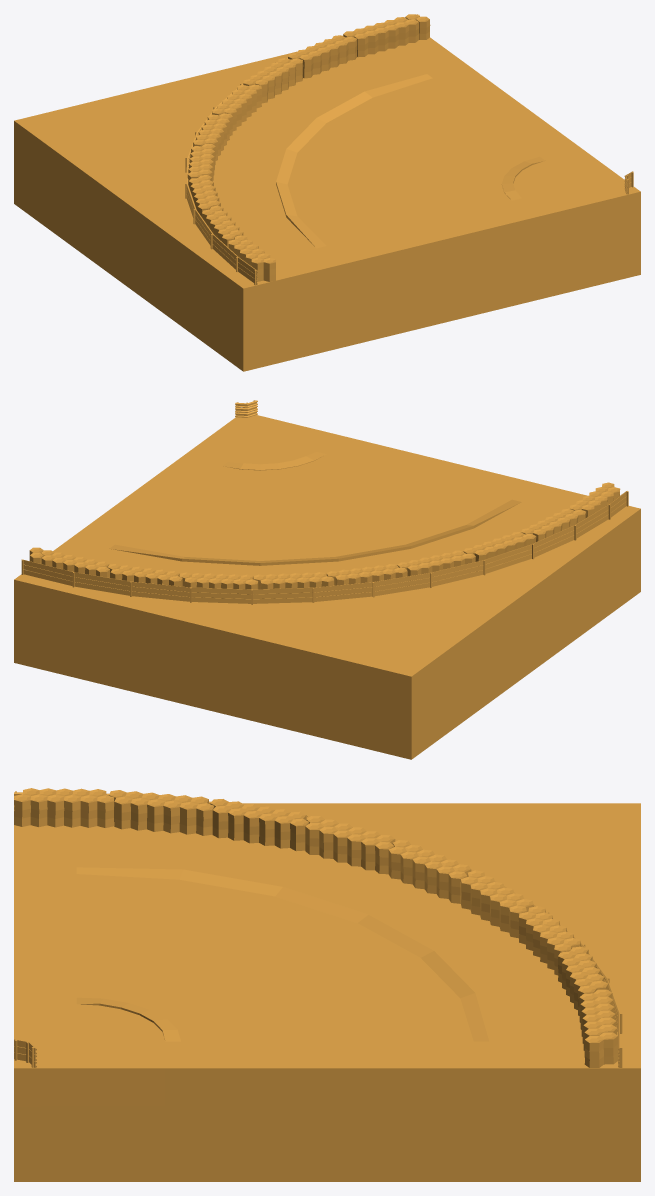
Rendered from tile-race-track-sand-curve.fbx.
The picture shows the model from 3 angles, top to bottom: view 1: azimuth 30°, elevation 25°; view 2: azimuth 150°, elevation 25°; view 3: azimuth 270°, elevation 25°; orthographic projection. The views are drawn at different scales.
Visible parts, largest first — view 1: tile-race-track-sand-curve; view 2: tile-race-track-sand-curve; view 3: tile-race-track-sand-curve.
Boxes of the visible parts, bbox=[...] form: tile-race-track-sand-curve: bbox=[14, 14, 640, 371]; tile-race-track-sand-curve: bbox=[14, 400, 640, 759]; tile-race-track-sand-curve: bbox=[14, 788, 640, 1181].
Bounding box in the file's own units: 30.01 × 7.32 × 30.
